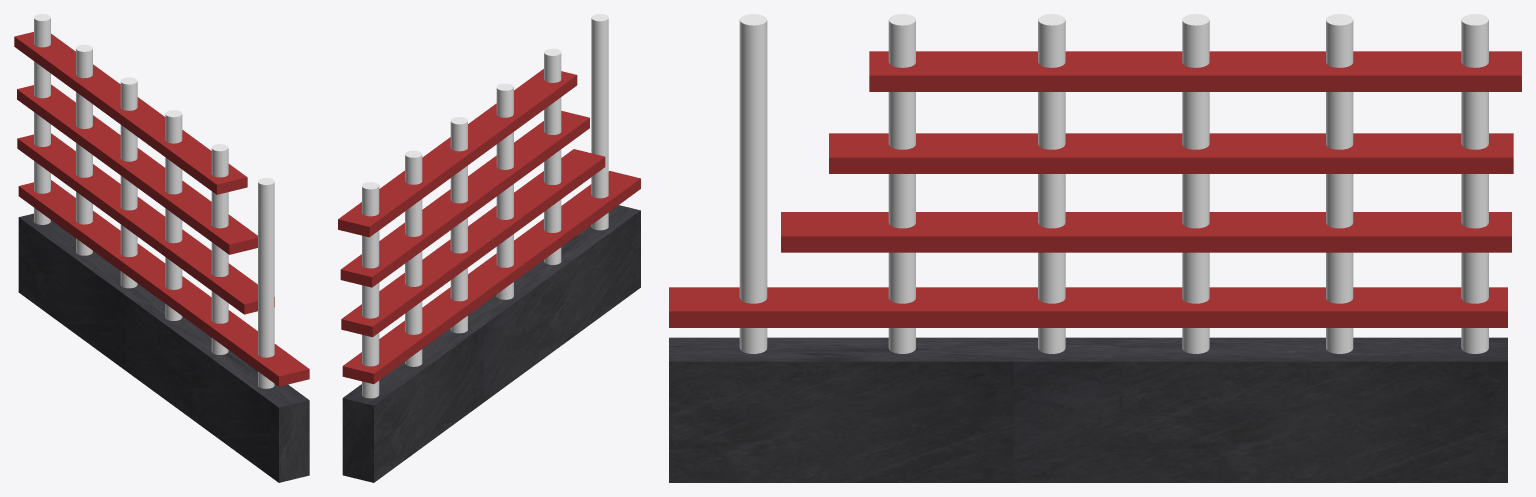
The model's file is pilar.obj.
The picture shows the model from 3 angles, left to right: view 1: azimuth 30°, elevation 25°; view 2: azimuth 150°, elevation 25°; view 3: azimuth 270°, elevation 25°; orthographic projection. The views are drawn at different scales.
Parts seen in each view (by area): view 1: Pilar12; view 2: Pilar12; view 3: Pilar12.
Boxes of the visible parts, box(x1,y1,x2,y2) form: Pilar12: box(14, 14, 309, 482); Pilar12: box(338, 14, 640, 482); Pilar12: box(669, 14, 1521, 482).
Bounding box in the file's own units: 1.15 × 10.03 × 17.24.
11 materials, 11 textured.
